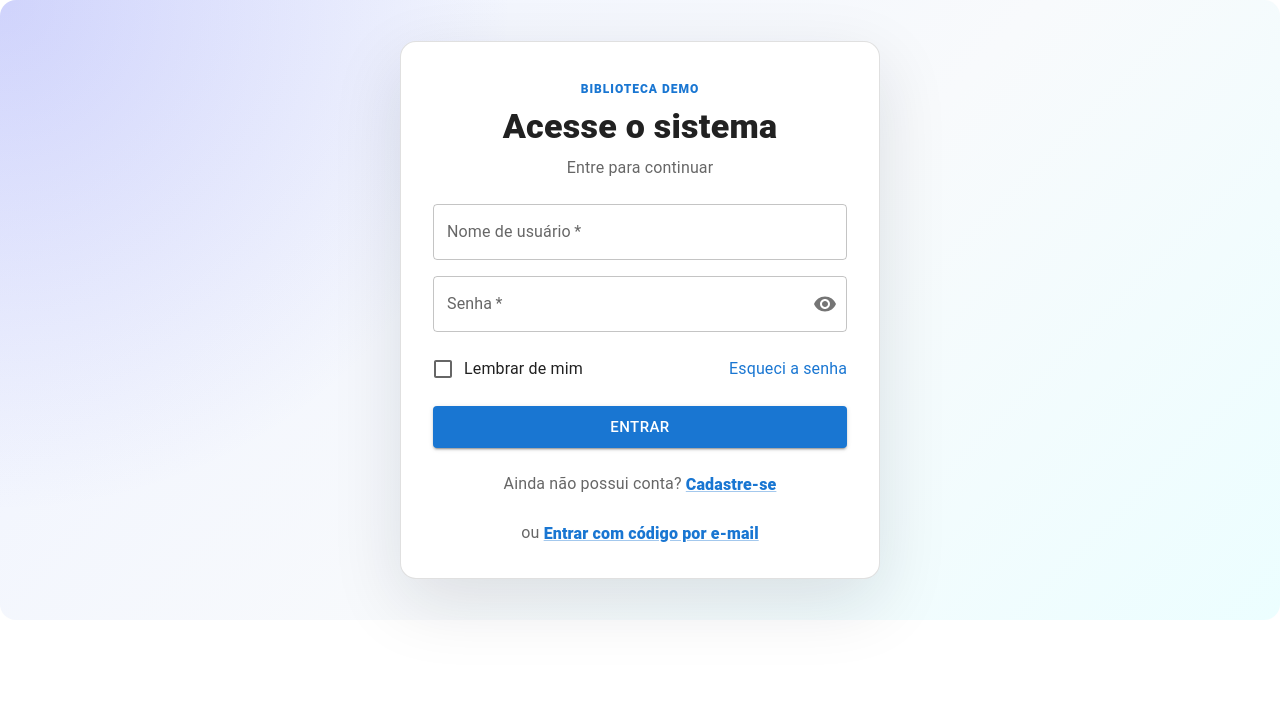
Test: AuthPanel › mostra o link de código por e-mail e navega para o modo código
Click the button "Entrar com código por e-mail". click: (651, 534)
box: [544, 522, 759, 546]
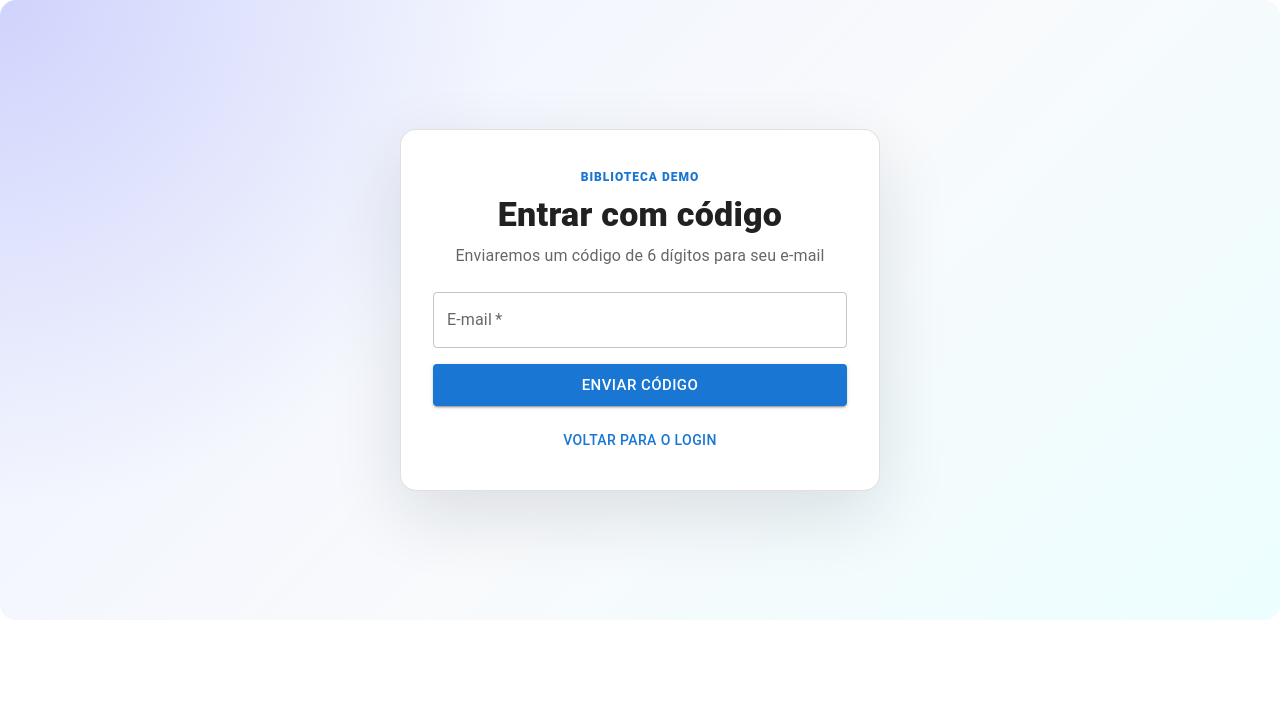
Now the heading "Entrar com código" is shown, box [498, 194, 782, 234]
Now the field labelled "E-mail *" is shown, box [433, 292, 847, 348]
Now the button "Enviar código" is shown, box [433, 364, 847, 406]
